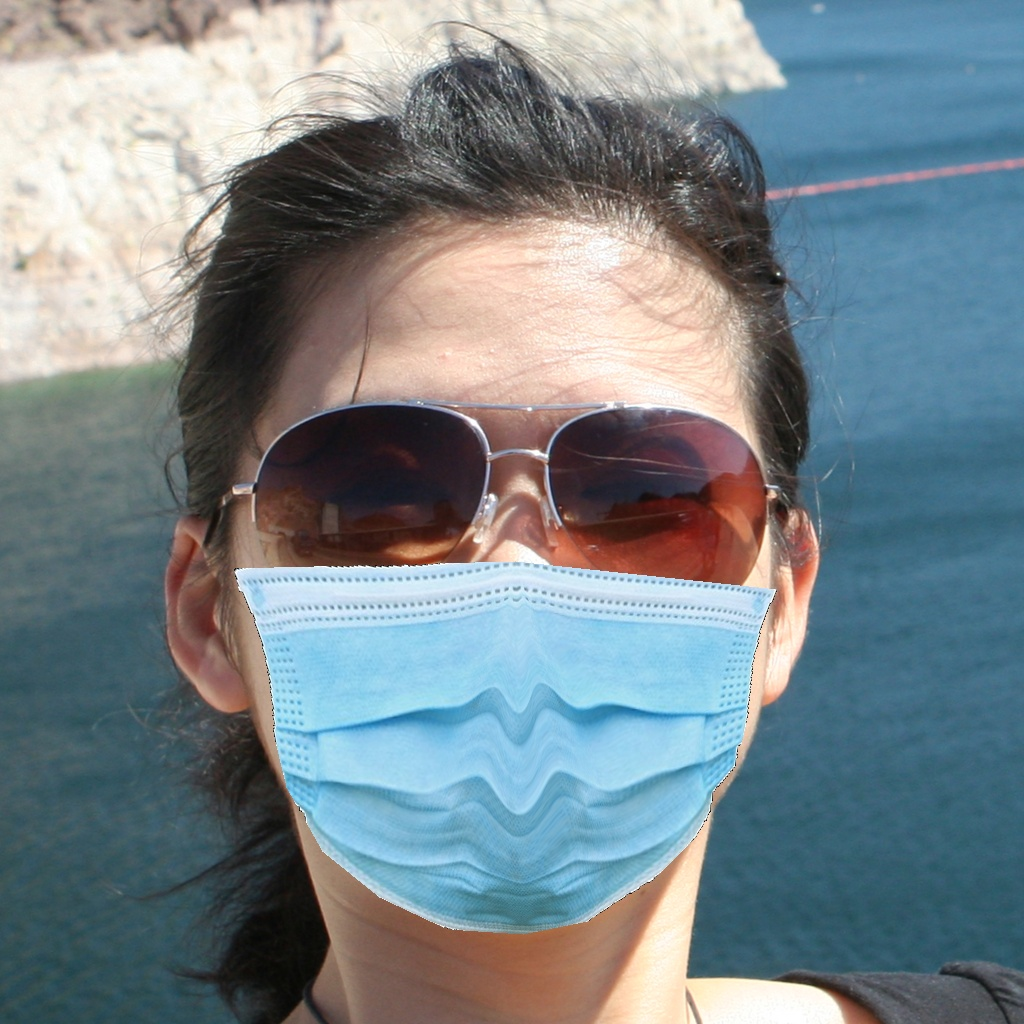Mask: (228, 345, 783, 941)
